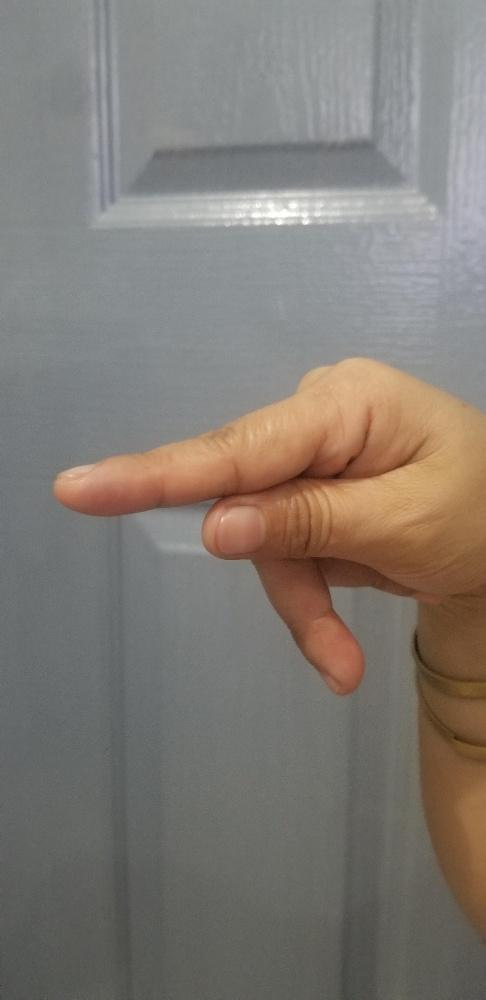p: (49, 353, 485, 698)
